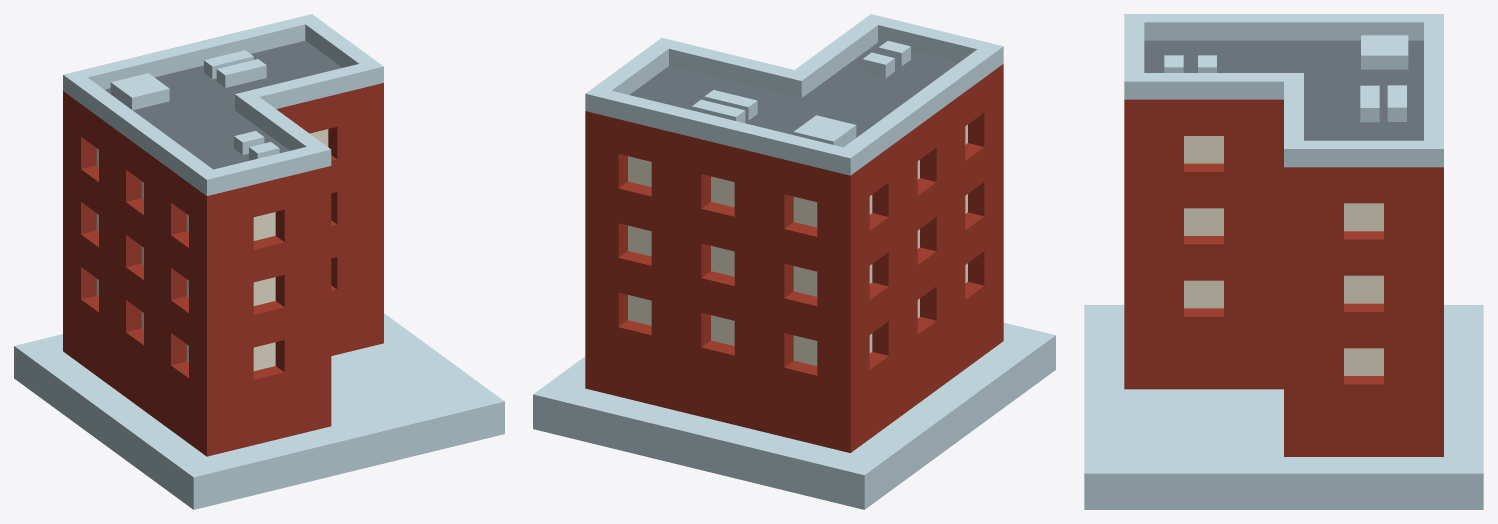
Rendered from Building_3_Base_Extra (Red).obj.
The picture shows the model from 3 angles, left to right: view 1: azimuth 30°, elevation 25°; view 2: azimuth 150°, elevation 25°; view 3: azimuth 270°, elevation 25°; orthographic projection. The views are drawn at different scales.
Visible parts, largest first — view 1: Building_3_Base_Extra_(Red); view 2: Building_3_Base_Extra_(Red); view 3: Building_3_Base_Extra_(Red).
Boxes of the visible parts, bbox=[...] form: Building_3_Base_Extra_(Red): bbox=[14, 14, 504, 509]; Building_3_Base_Extra_(Red): bbox=[533, 14, 1055, 509]; Building_3_Base_Extra_(Red): bbox=[1084, 14, 1483, 509].
Size of the model in its own units: 2 by 1.9 by 2.
